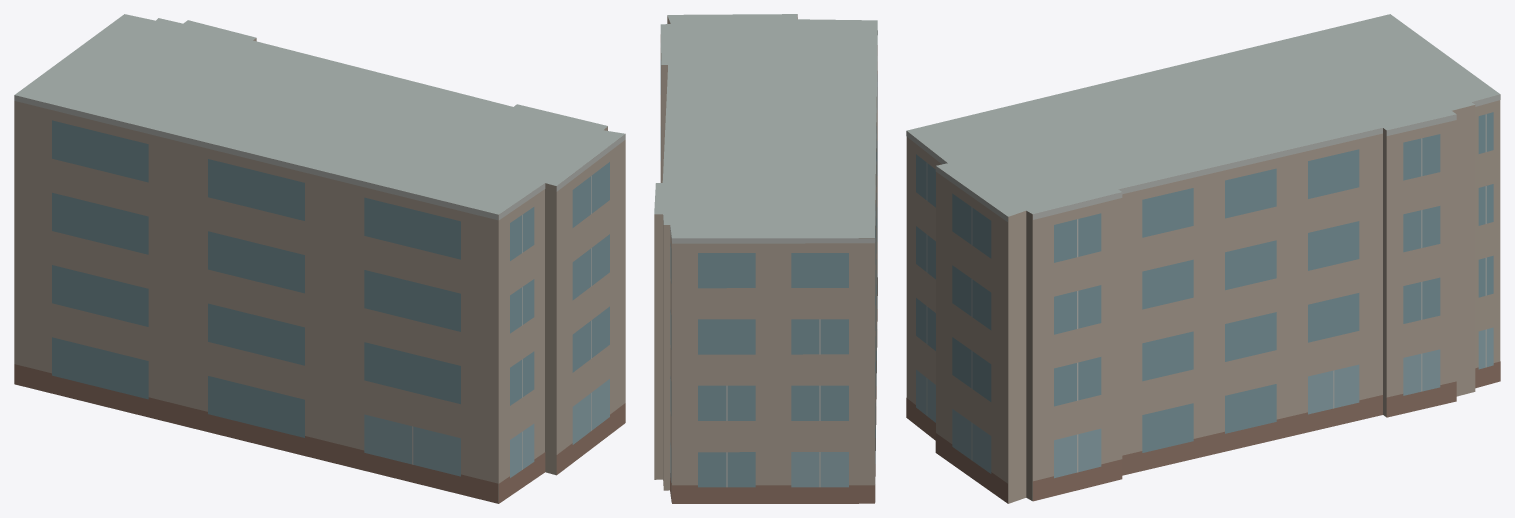
The model's file is survey-upis-32597975.glb.
3 views of the same model, side by side, from view 1: azimuth 30°, elevation 25°; view 2: azimuth 150°, elevation 25°; view 3: azimuth 270°, elevation 25° (orthographic). The views are drawn at different scales.
Visible parts, largest first — view 1: survey-upis-32597975.tmp; view 2: survey-upis-32597975.tmp; view 3: survey-upis-32597975.tmp.
Part boxes in pixels (left/top/right/bottom): survey-upis-32597975.tmp: left=14, top=14, right=625, bottom=503; survey-upis-32597975.tmp: left=654, top=14, right=877, bottom=503; survey-upis-32597975.tmp: left=906, top=14, right=1500, bottom=503.
Size of the model in its own units: 18.49 by 12.2 by 22.89.
